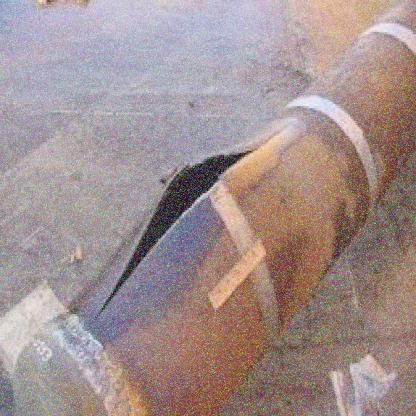burst: (95, 125, 289, 325)
